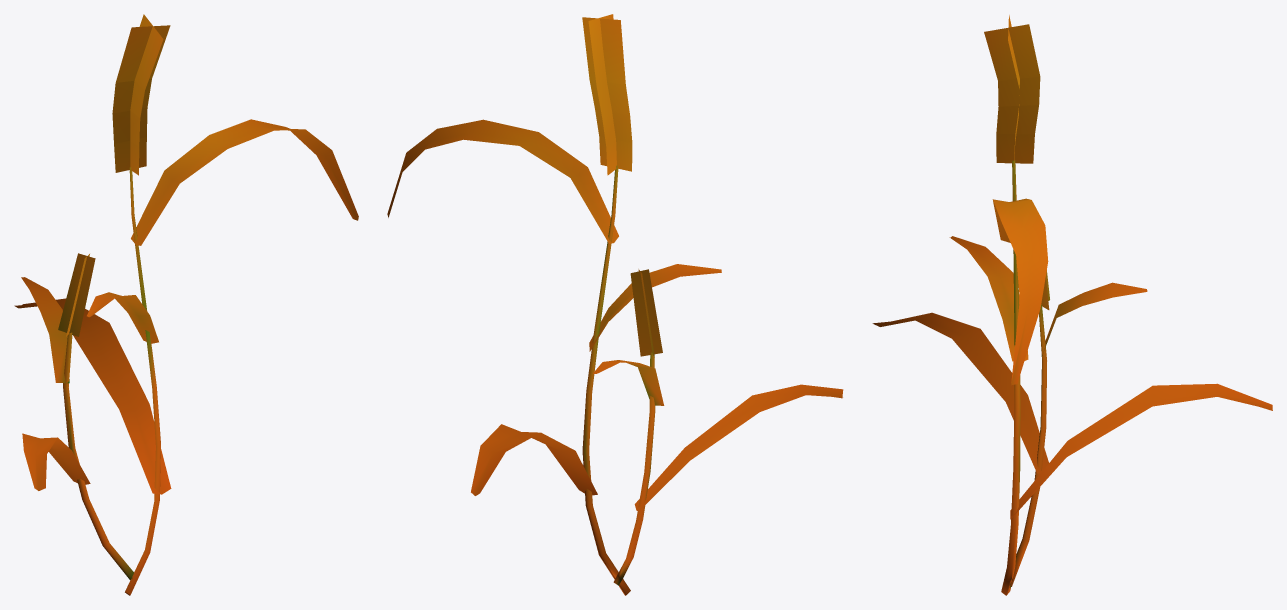
File: SM_WheatPlants_12.fbx
3 views of the same model, side by side, from view 1: azimuth 30°, elevation 25°; view 2: azimuth 150°, elevation 25°; view 3: azimuth 270°, elevation 25° (orthographic). The views are drawn at different scales.
Parts seen in each view (by area): view 1: SM_WheatPlants_12; view 2: SM_WheatPlants_12; view 3: SM_WheatPlants_12.
Boxes of the visible parts, x1,y1,x2,y2 form: SM_WheatPlants_12: (14,14,358,595); SM_WheatPlants_12: (387,14,843,595); SM_WheatPlants_12: (872,15,1272,595).
Size of the model in its own units: 1.36 by 1.91 by 1.19.
